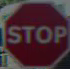Stop: (1, 6, 66, 55)
